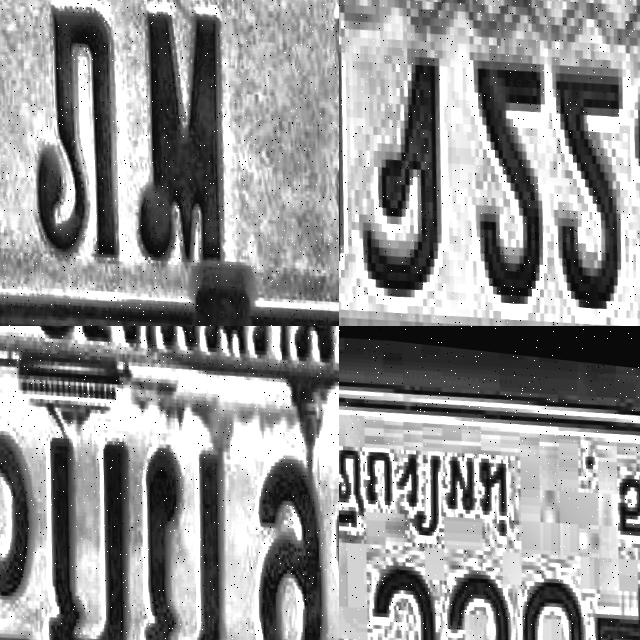license-plate: (0, 0, 339, 326), (0, 326, 339, 640), (339, 0, 640, 326), (339, 336, 640, 640)
